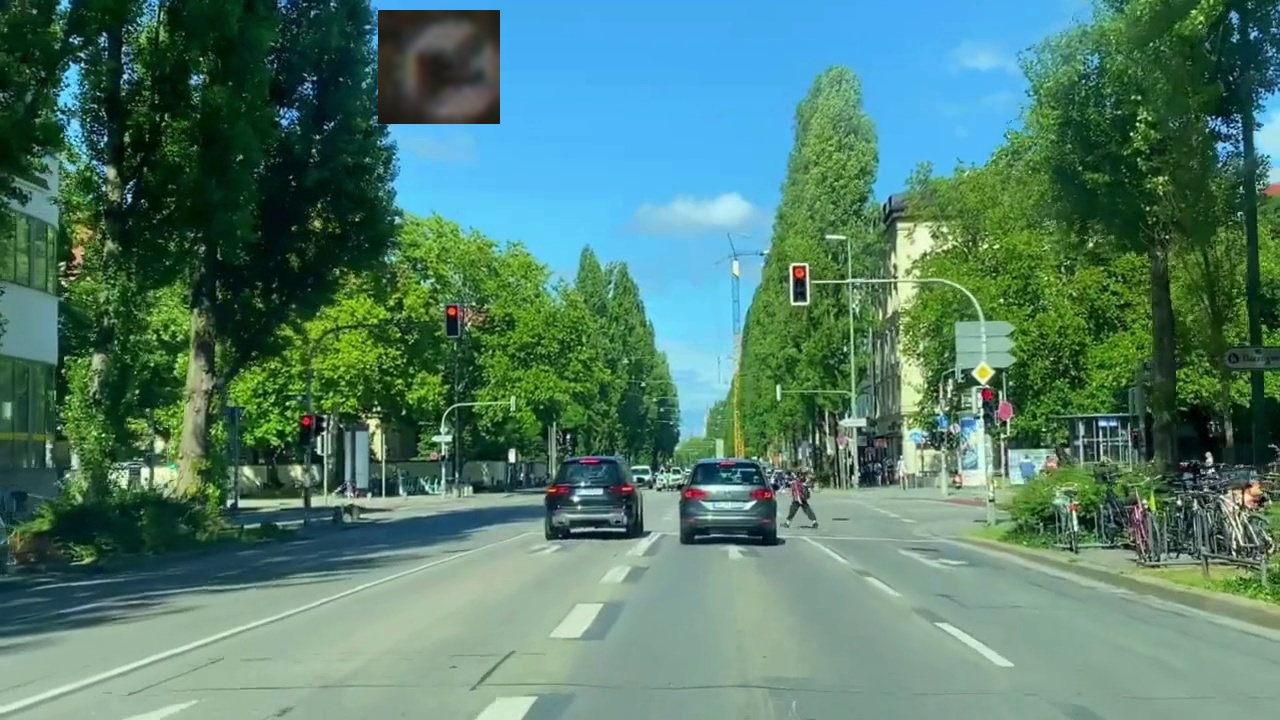End no pass >3.5t: (378, 10, 500, 124)
